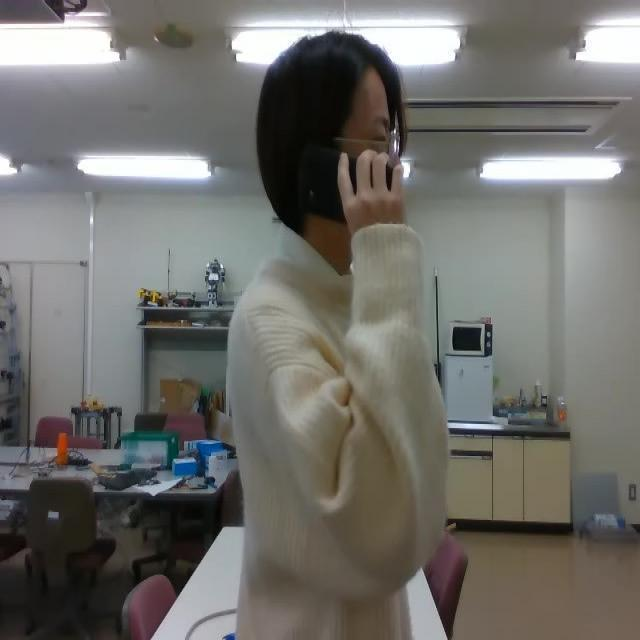Phone: (296, 140, 396, 227)
